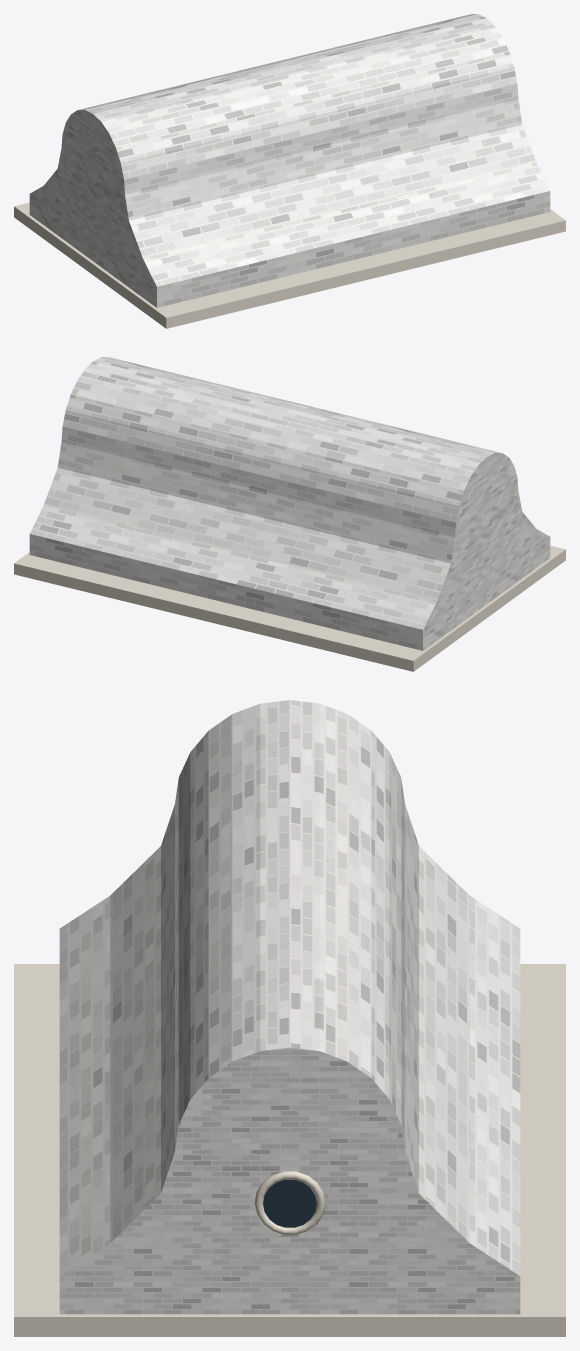
The model's file is roof-bell-6.obj.
The picture shows the model from 3 angles, top to bottom: view 1: azimuth 30°, elevation 25°; view 2: azimuth 150°, elevation 25°; view 3: azimuth 270°, elevation 25°; orthographic projection. The views are drawn at different scales.
Visible parts, largest first — view 1: part2, part1.nocast; view 2: part2, part1.nocast; view 3: part2, part1.nocast, part4.nocast, part5.nocast.
Part boxes in pixels (x1,y1,x2,y2): part2: (29,14,550,307); part1.nocast: (14,202,565,328); part2: (29,357,550,650); part1.nocast: (14,545,565,671); part2: (59,700,520,1314); part1.nocast: (14,964,565,1336); part4.nocast: (263,1179,316,1227); part5.nocast: (254,1171,325,1234).
Bounding box in the file's own units: 9.15 × 3.46 × 6.04.
Materials: 4 (2 with a texture image).
